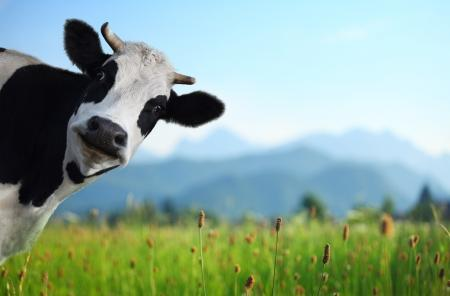muzzles: (71, 108, 131, 172)
